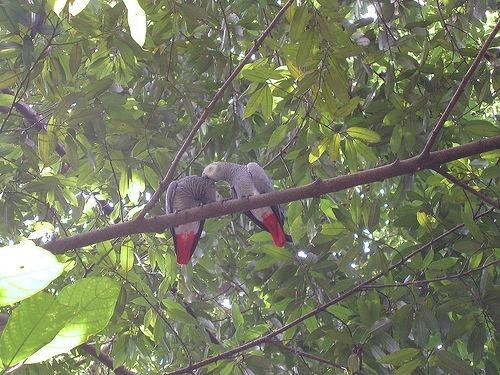bird: (203, 157, 298, 249), (167, 172, 224, 263)
